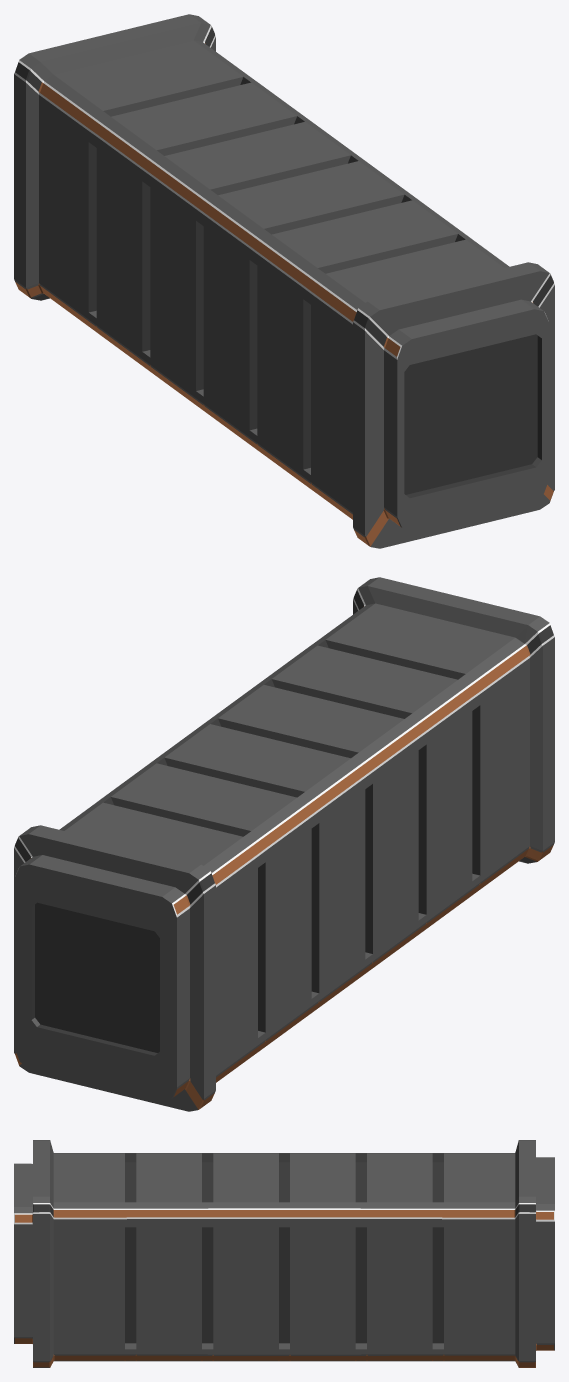
File: MS_Container.fbx
The picture shows the model from 3 angles, top to bottom: view 1: azimuth 30°, elevation 25°; view 2: azimuth 150°, elevation 25°; view 3: azimuth 270°, elevation 25°; orthographic projection. The views are drawn at different scales.
Visible parts, largest first — view 1: MS_Container; view 2: MS_Container; view 3: MS_Container.
Boxes of the visible parts, left/top/right/bottom form: MS_Container: left=14, top=14, right=554, bottom=548; MS_Container: left=14, top=577, right=554, bottom=1111; MS_Container: left=14, top=1140, right=554, bottom=1367.
Bounding box in the file's own units: 2.5 × 3 × 8.6.
